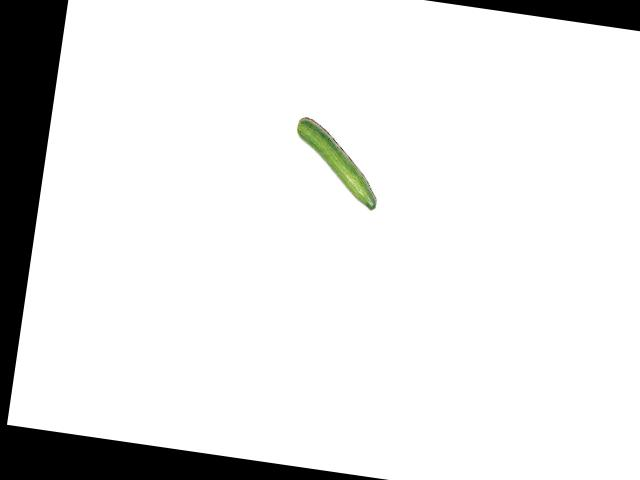cucumber: (286, 116, 387, 210)
